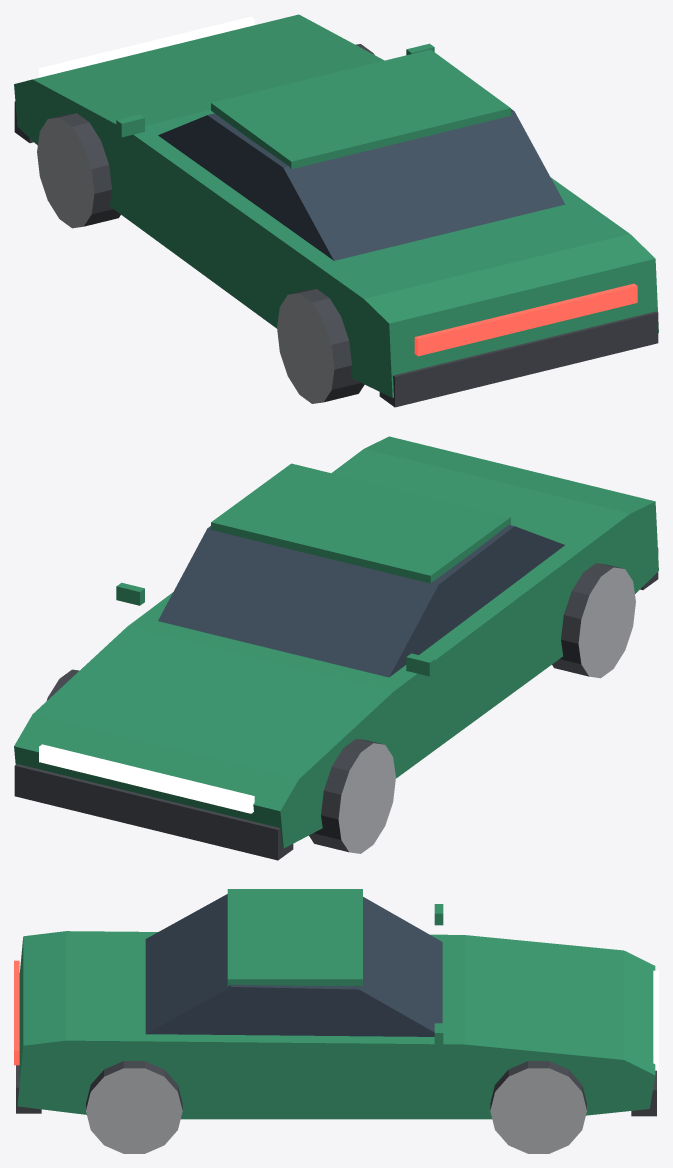
The model's file is car_green.glb.
The picture shows the model from 3 angles, top to bottom: view 1: azimuth 30°, elevation 25°; view 2: azimuth 150°, elevation 25°; view 3: azimuth 270°, elevation 25°; orthographic projection. The views are drawn at different scales.
Visible parts, largest first — view 1: body, cabin, roof, wheel (×2), bumperR, taillights, headlights; view 2: body, cabin, roof, wheel (×2), bumperF, headlights; view 3: body, cabin, wheel (×2), roof, taillights, headlights.
Boxes of the visible parts, x1=… form: body: x1=14, y1=14, x2=658, y2=397; cabin: x1=158, y1=109, x2=565, y2=260; roof: x1=211, y1=49, x2=510, y2=169; wheel (×2): x1=37, y1=113, x2=364, y2=403; bumperR: x1=379, y1=311, x2=658, y2=407; taillights: x1=414, y1=283, x2=637, y2=356; headlights: x1=39, y1=16, x2=254, y2=77; body: x1=14, y1=436, x2=658, y2=848; cabin: x1=158, y1=525, x2=564, y2=677; roof: x1=211, y1=463, x2=510, y2=583; wheel (×2): x1=309, y1=563, x2=635, y2=853; bumperF: x1=14, y1=764, x2=293, y2=860; headlights: x1=39, y1=744, x2=254, y2=813; body: x1=17, y1=931, x2=655, y2=1119; cabin: x1=145, y1=894, x2=442, y2=1036; wheel (×2): x1=86, y1=1061, x2=586, y2=1153; roof: x1=227, y1=889, x2=362, y2=985; taillights: x1=14, y1=960, x2=19, y2=1065; headlights: x1=653, y1=970, x2=658, y2=1070.
Size of the model in its own units: 2.14 by 1.22 by 4.53.
